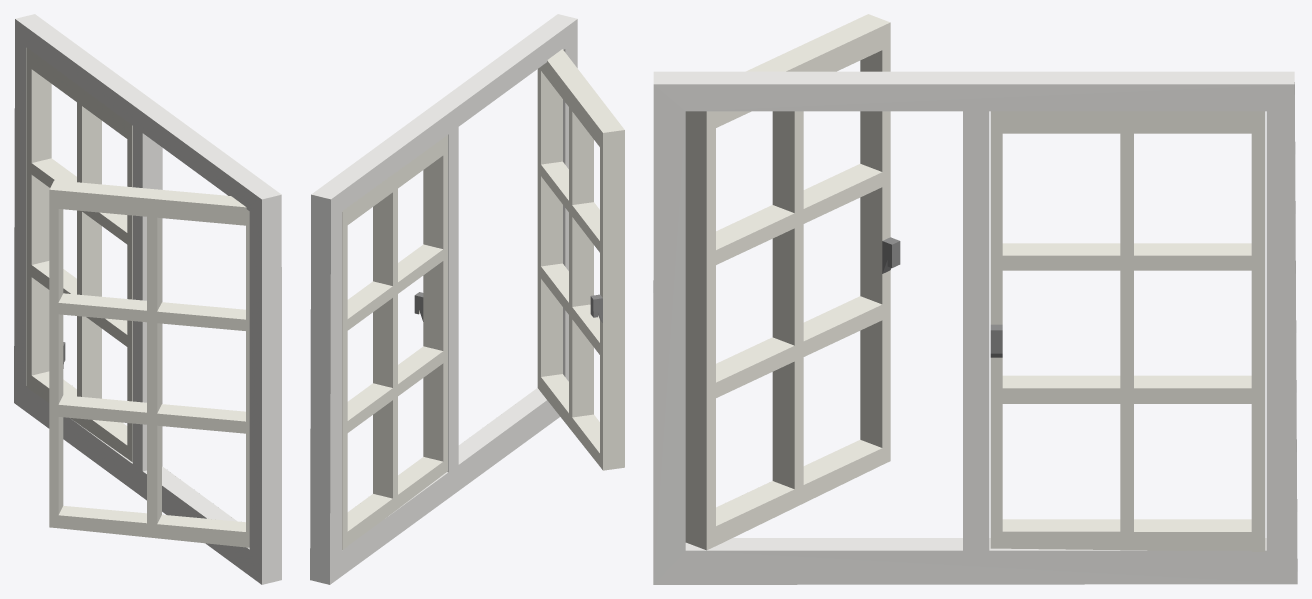
Rendered from Window_Left_Half_Open.fbx.
The picture shows the model from 3 angles, left to right: view 1: azimuth 30°, elevation 25°; view 2: azimuth 150°, elevation 25°; view 3: azimuth 270°, elevation 25°; orthographic projection. The views are drawn at different scales.
Parts seen in each view (by area): view 1: polySurface2; view 2: polySurface2; view 3: polySurface2.
Boxes of the visible parts, bbox=[...] form: polySurface2: bbox=[14, 14, 281, 584]; polySurface2: bbox=[310, 14, 624, 584]; polySurface2: bbox=[653, 14, 1297, 584].
Size of the model in its own units: 7.97 by 18.51 by 21.58.
